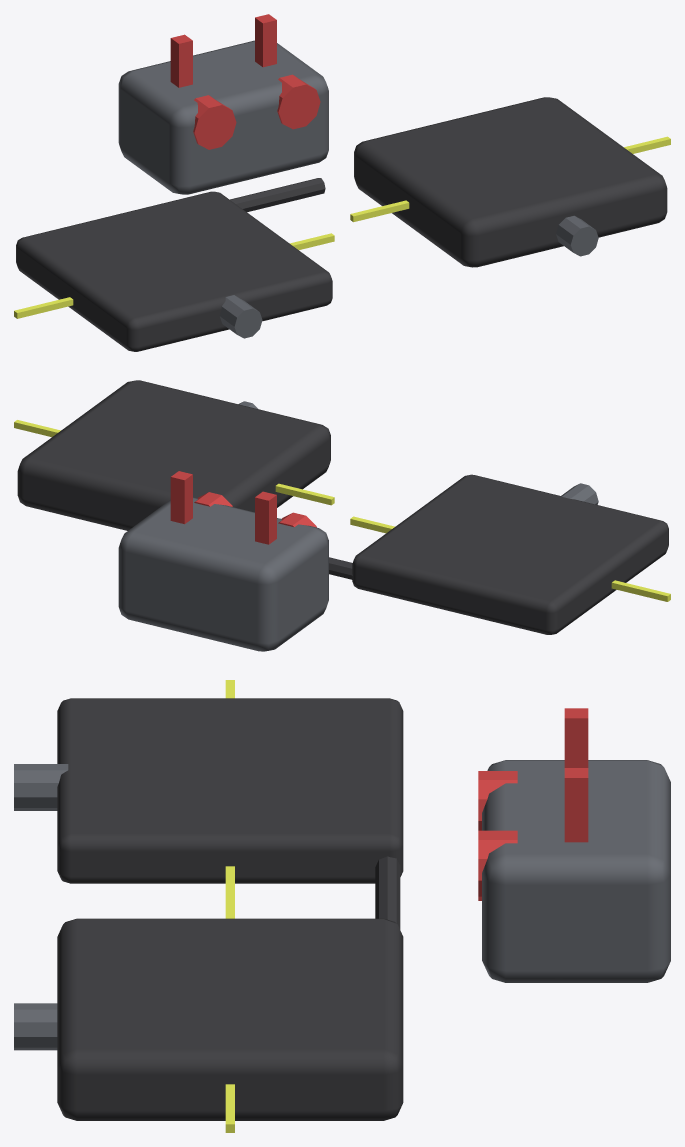
Rendered from fire-and-emergency-services-lifting-air-bag-set-1fca1c5f__29922.glb.
The picture shows the model from 3 angles, top to bottom: view 1: azimuth 30°, elevation 25°; view 2: azimuth 150°, elevation 25°; view 3: azimuth 270°, elevation 25°; orthographic projection. The views are drawn at different scales.
Visible parts, largest first — view 1: lifting-air-bag-set; view 2: lifting-air-bag-set; view 3: lifting-air-bag-set.
Part boxes in pixels (left/top/right/bottom): lifting-air-bag-set: left=14, top=14, right=670, bottom=351; lifting-air-bag-set: left=14, top=380, right=670, bottom=651; lifting-air-bag-set: left=14, top=680, right=670, bottom=1132.
Bounding box in the file's own units: 1.4 × 0.27 × 0.835.
